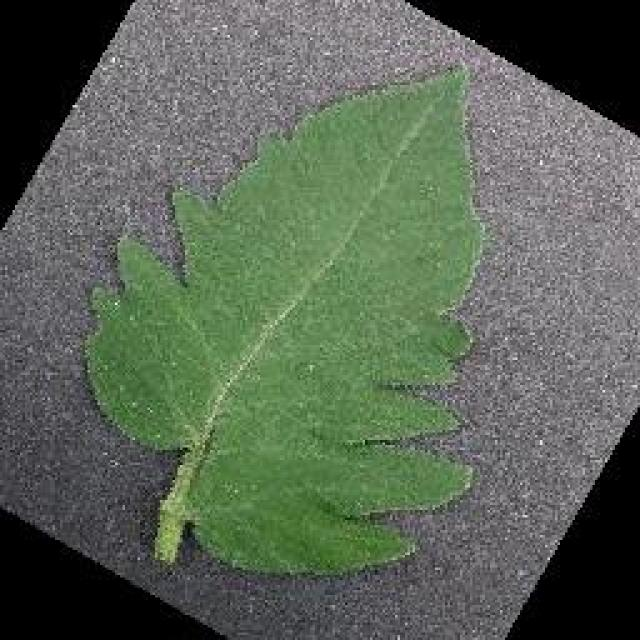Tomato___healthy: (83, 65, 488, 572)
